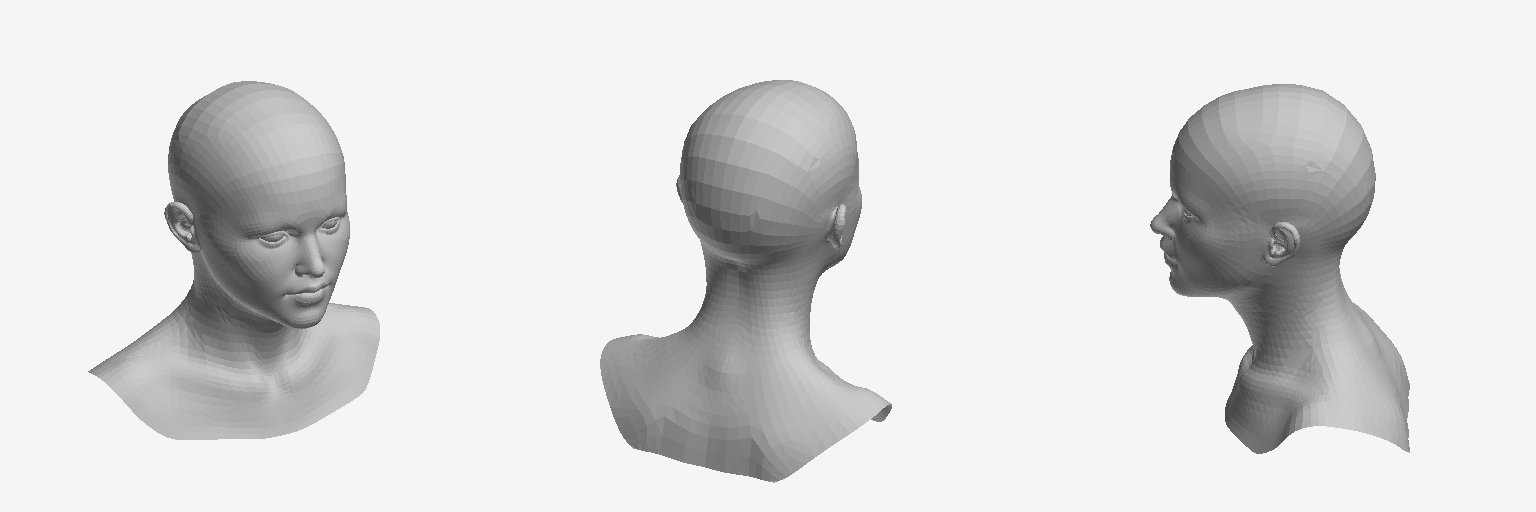
Rendered from HeadModified.obj.
3 views of the same model, side by side, from view 1: azimuth 30°, elevation 25°; view 2: azimuth 150°, elevation 25°; view 3: azimuth 270°, elevation 25° (orthographic).
Visible parts, largest first — view 1: head____N; view 2: head____N; view 3: head____N.
Boxes of the visible parts, x1=… form: head____N: x1=88, y1=81, x2=379, y2=439; head____N: x1=600, y1=80, x2=891, y2=482; head____N: x1=1150, y1=84, x2=1409, y2=453.
Size of the model in its own units: 4451 by 5106 by 3644.